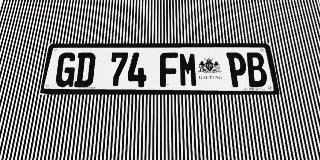4: (127, 52, 147, 87)
7: (108, 52, 128, 87)
B: (245, 52, 268, 87)
D: (74, 52, 96, 87)
F: (160, 52, 179, 87)
G: (54, 52, 77, 87)
M: (179, 52, 198, 87)
P: (226, 52, 249, 87)
